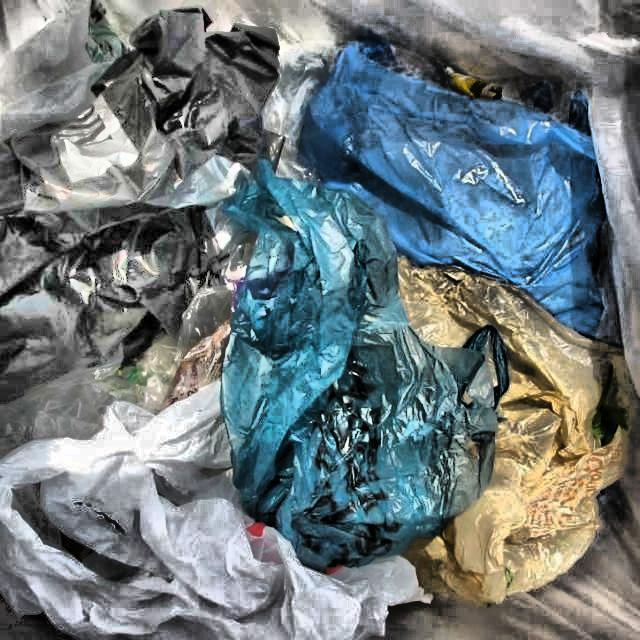Single-layer Plastic: (317, 0, 640, 391), (221, 161, 509, 569), (0, 382, 426, 640), (300, 44, 604, 336), (399, 258, 629, 603), (0, 0, 336, 214), (0, 206, 246, 456), (0, 0, 109, 139)
